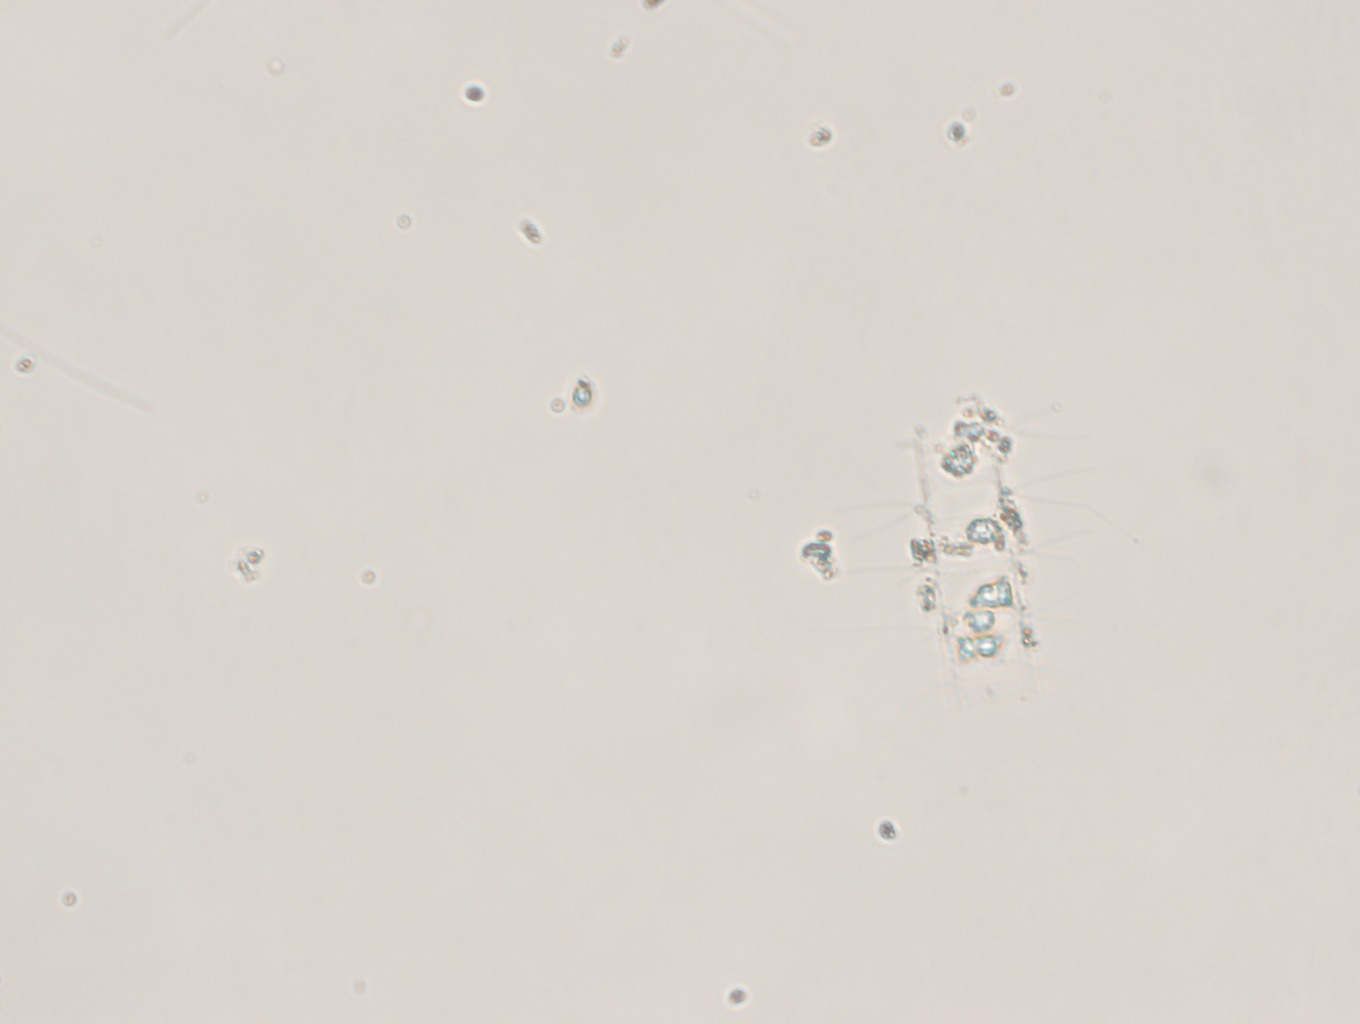chaetoceros: (836, 358, 1131, 733)
